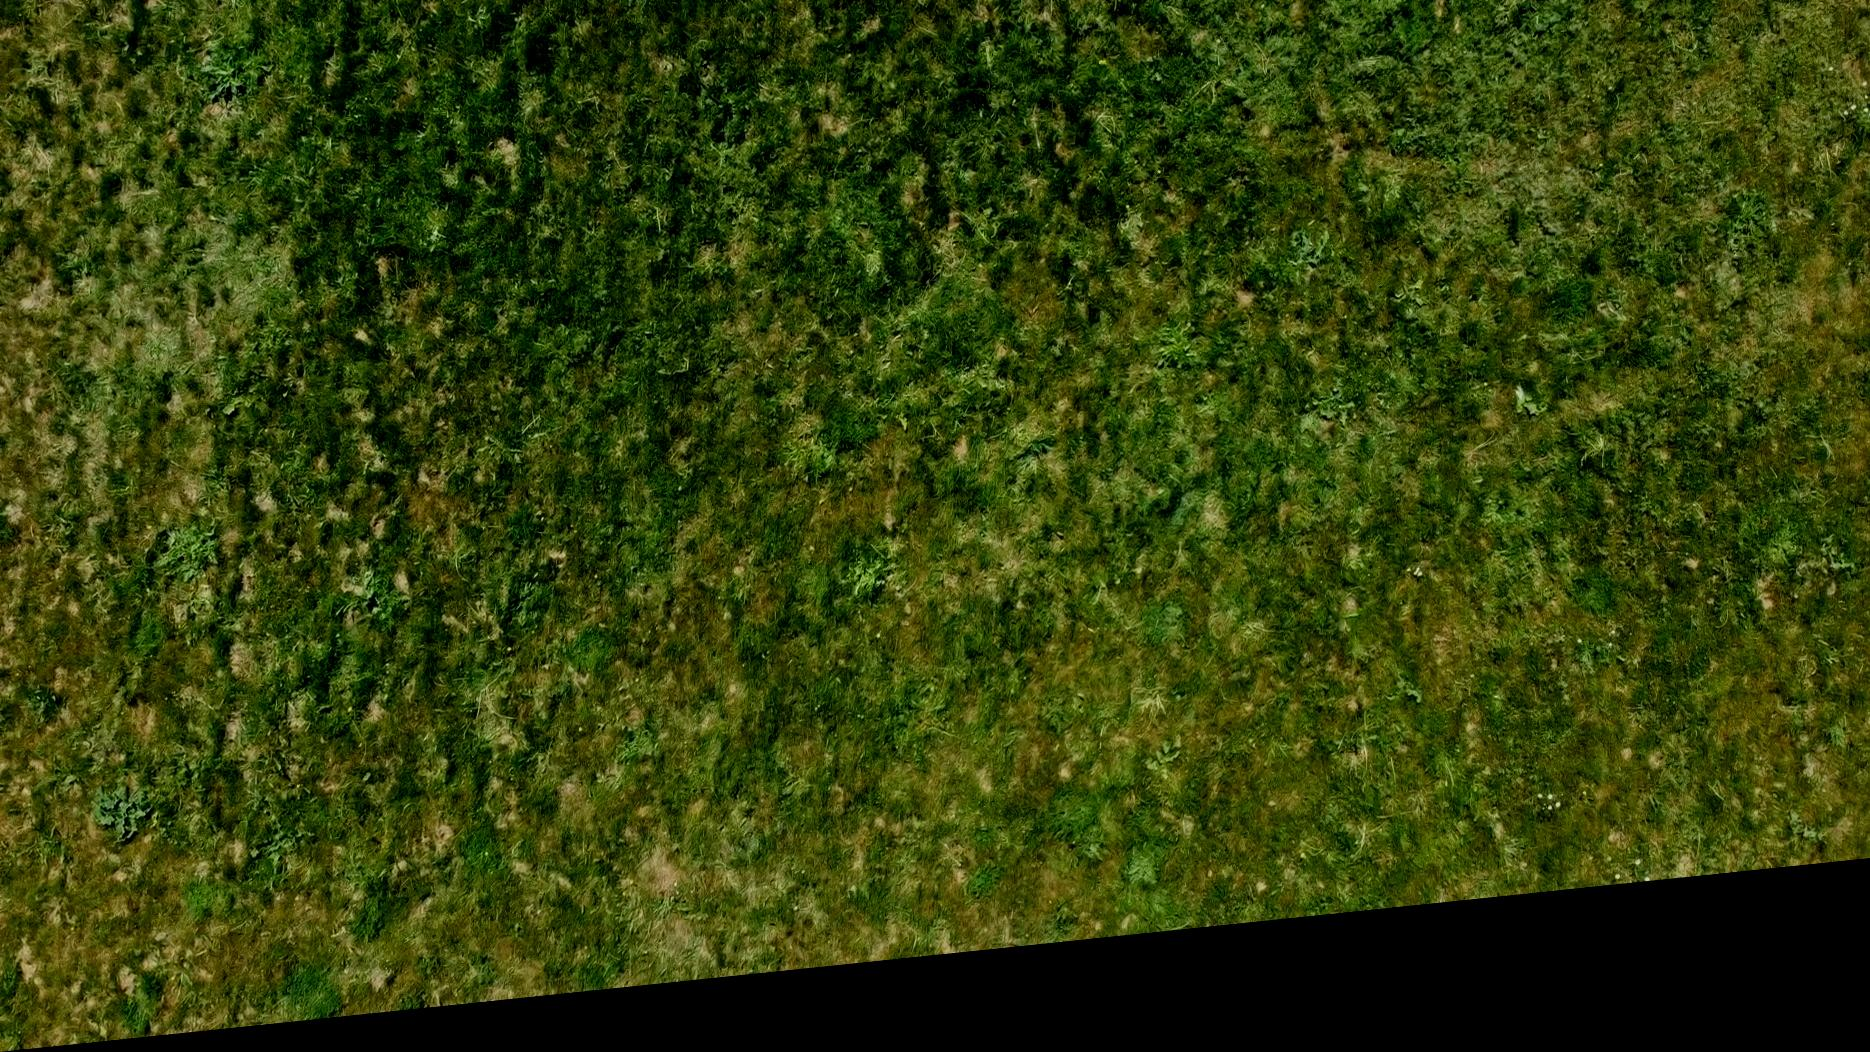Blue: (683, 0, 759, 8)
